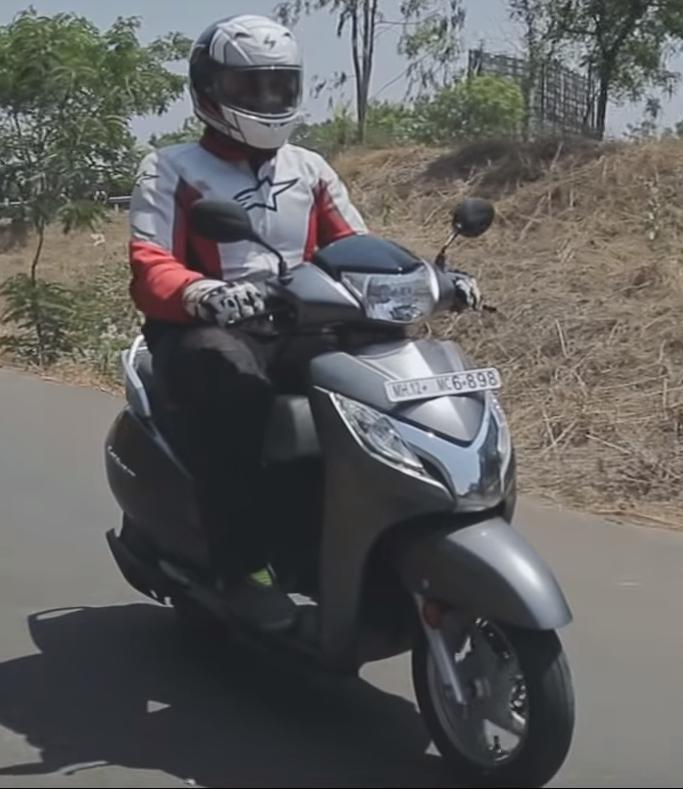helmet: (187, 12, 306, 153)
